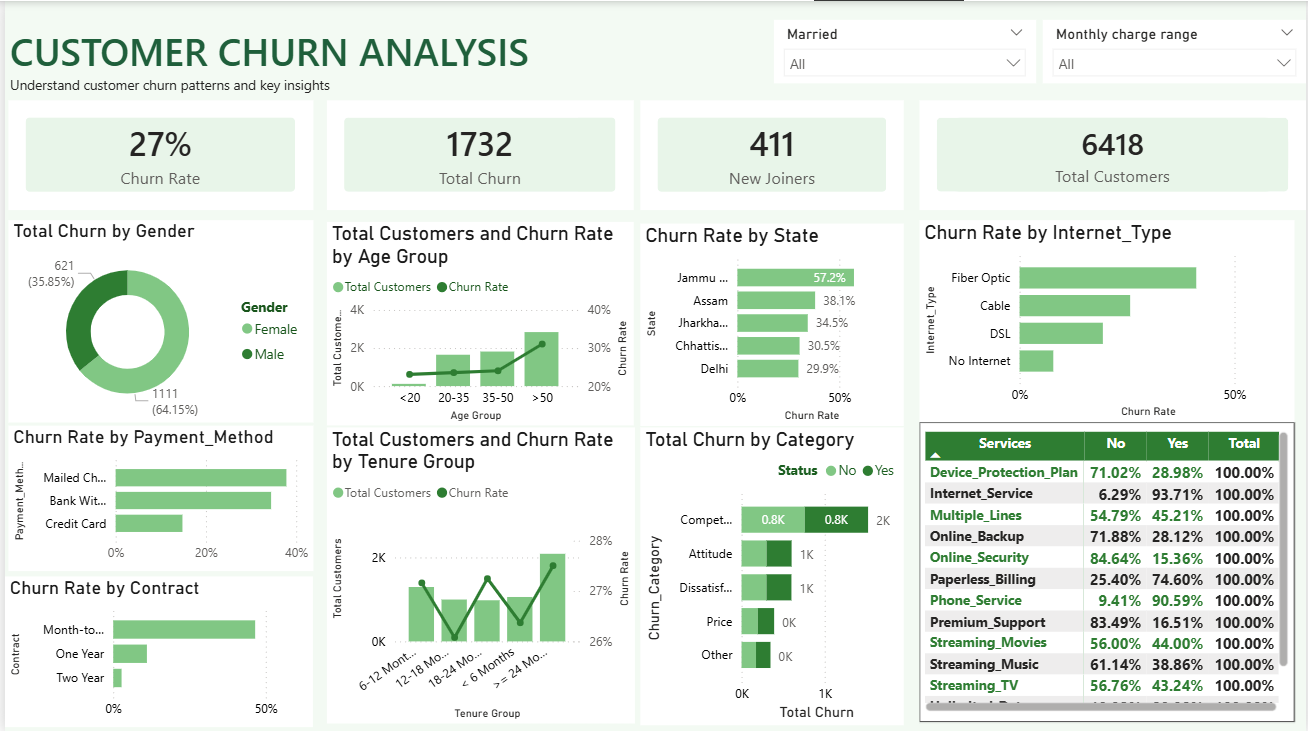

Layout of this report page (visuals, bound fields, positions):
{"tool":"powerbi","page":{"name":"Dashboard","canvas":[1280,720],"ordinal":0},"visuals":[{"type":"cardVisual","fields":{"Data":["tbl_Measures.New Joiners"]},"box":[625.3,97.7,259.5,107.9],"z":0},{"type":"cardVisual","fields":{"Data":["tbl_Measures.Total Churn"]},"box":[316.8,97.7,301.7,107.9],"z":1000},{"type":"cardVisual","fields":{"Data":["tbl_Measures.Churn Rate"]},"box":[3.4,97.7,300,107.9],"z":2000},{"type":"donutChart","fields":{"Category":["prod_churn.Gender"],"Y":["tbl_Measures.Total Churn"]},"box":[3.4,215.7,300,198.9],"z":3000},{"type":"lineStackedColumnComboChart","fields":{"Category":["mapping_Agegrp.Age Group"],"Y":["tbl_Measures.Total Customers"],"Y2":["tbl_Measures.Churn Rate"]},"box":[316.8,217.4,301.7,200.6],"z":4000},{"type":"clusteredBarChart","fields":{"Category":["prod_churn.Payment_Method"],"Y":["tbl_Measures.Churn Rate"]},"box":[3.4,418,300,143.3],"z":5000},{"type":"barChart","fields":{"Category":["prod_churn.Contract"],"Y":["tbl_Measures.Churn Rate"]},"box":[0,566.3,303.4,148.3],"z":6000},{"type":"lineStackedColumnComboChart","fields":{"Category":["mapping_TenureGrp.Tenure Group"],"Y":["tbl_Measures.Total Customers"],"Y2":["tbl_Measures.Churn Rate"]},"box":[316.8,419.6,303.4,291.6],"z":7000},{"type":"clusteredBarChart","fields":{"Category":["prod_churn.State"],"Y":["tbl_Measures.Churn Rate"]},"box":[625.3,219.1,259.5,198.9],"z":8000},{"type":"barChart","title":"Total Churn by Category","fields":{"Category":["prod_churn.Churn_Category"],"Series":["prod_service.Status"],"Y":["tbl_Measures.Total Churn"]},"box":[625.3,419.6,259.5,293.2],"z":9000},{"type":"clusteredBarChart","fields":{"Category":["prod_churn.Internet_Type"],"Y":["tbl_Measures.Churn Rate"]},"box":[900,215.7,369.1,198.9],"z":10000},{"type":"pivotTable","fields":{"Columns":["prod_service.Status"],"Rows":["prod_service.Services"],"Values":["Sum(prod_service.Churn Status)"]},"box":[900,414.6,369.1,294.9],"z":11000},{"type":"slicer","fields":{"Values":["prod_churn.Monthly charge status"]},"box":[1021.3,18.5,259.5,62.4],"z":12000},{"type":"slicer","fields":{"Values":["prod_churn.Married"]},"box":[756.7,18.5,257.9,62.4],"z":13000},{"type":"textbox","box":[0,0,563.7,122.8],"z":14000},{"type":"cardVisual","fields":{"Data":["tbl_Measures.Total Customers"]},"box":[900,97.7,380.9,107.9],"z":14001}]}

Visuals, with their boxes in screenshot pixels (x1, y1, x2, y2), scaled from the page's 1280x720 canvas onto the 1308x731 screenshot:
cardVisual - tbl_Measures.New Joiners: 639/99/904/209
cardVisual - tbl_Measures.Total Churn: 324/99/632/209
cardVisual - tbl_Measures.Churn Rate: 3/99/310/209
donutChart - prod_churn.Gender x tbl_Measures.Total Churn: 3/219/310/421
lineStackedColumnComboChart - mapping_Agegrp.Age Group x tbl_Measures.Total Customers: 324/221/632/424
clusteredBarChart - prod_churn.Payment_Method x tbl_Measures.Churn Rate: 3/424/310/570
barChart - prod_churn.Contract x tbl_Measures.Churn Rate: 0/575/310/726
lineStackedColumnComboChart - mapping_TenureGrp.Tenure Group x tbl_Measures.Total Customers: 324/426/634/722
clusteredBarChart - prod_churn.State x tbl_Measures.Churn Rate: 639/222/904/424
"Total Churn by Category" barChart: 639/426/904/724
clusteredBarChart - prod_churn.Internet_Type x tbl_Measures.Churn Rate: 920/219/1297/421
pivotTable - prod_service.Status x prod_service.Services: 920/421/1297/720
slicer - prod_churn.Monthly charge status: 1044/19/1307/82
slicer - prod_churn.Married: 773/19/1037/82
textbox: 0/0/576/125
cardVisual - tbl_Measures.Total Customers: 920/99/1307/209
